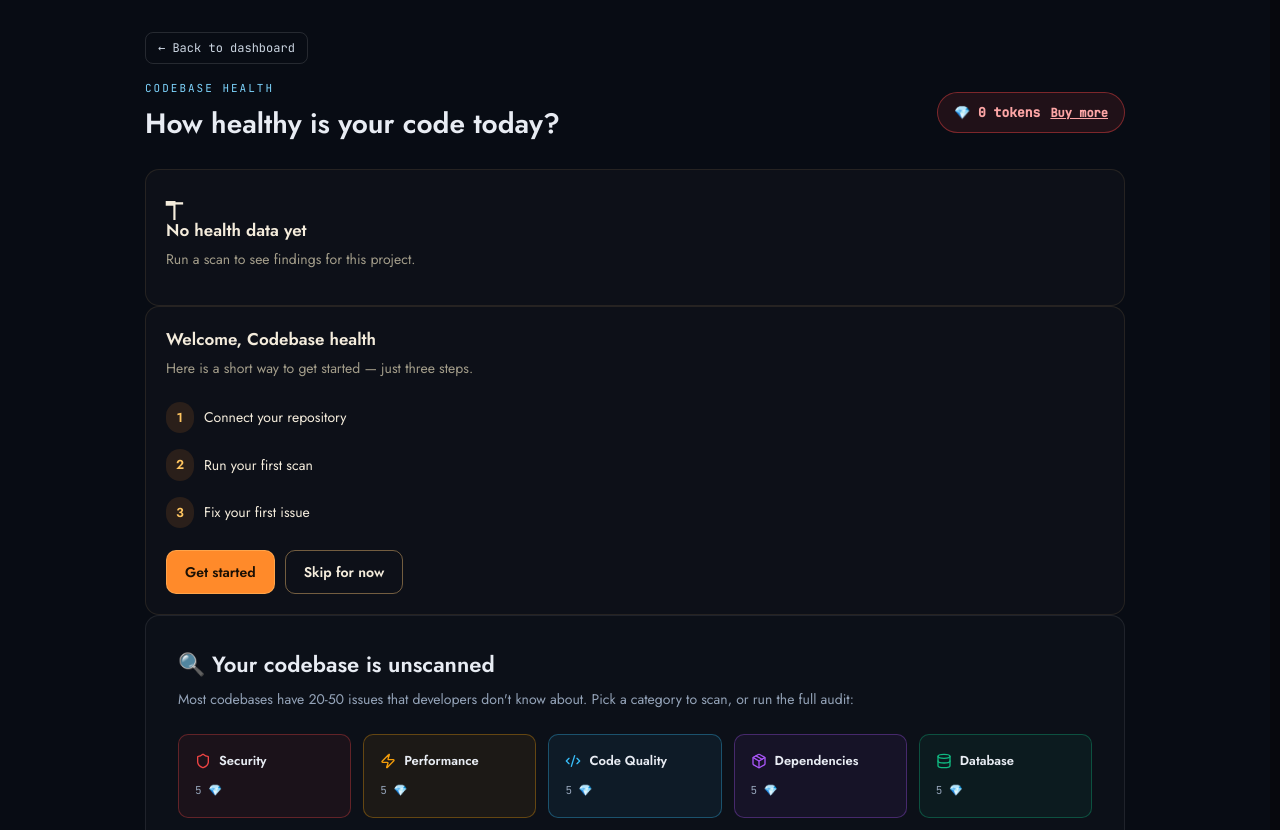
Test: UI-fix C4 · project-less scan attempt › clicking a category with no connected project shows 'Connect a repo first', not a silent error string
This screenshot has width=1280, height=830.
Click the button with test id "scan-security": {"x": 265, "y": 776} [178,734,351,818]
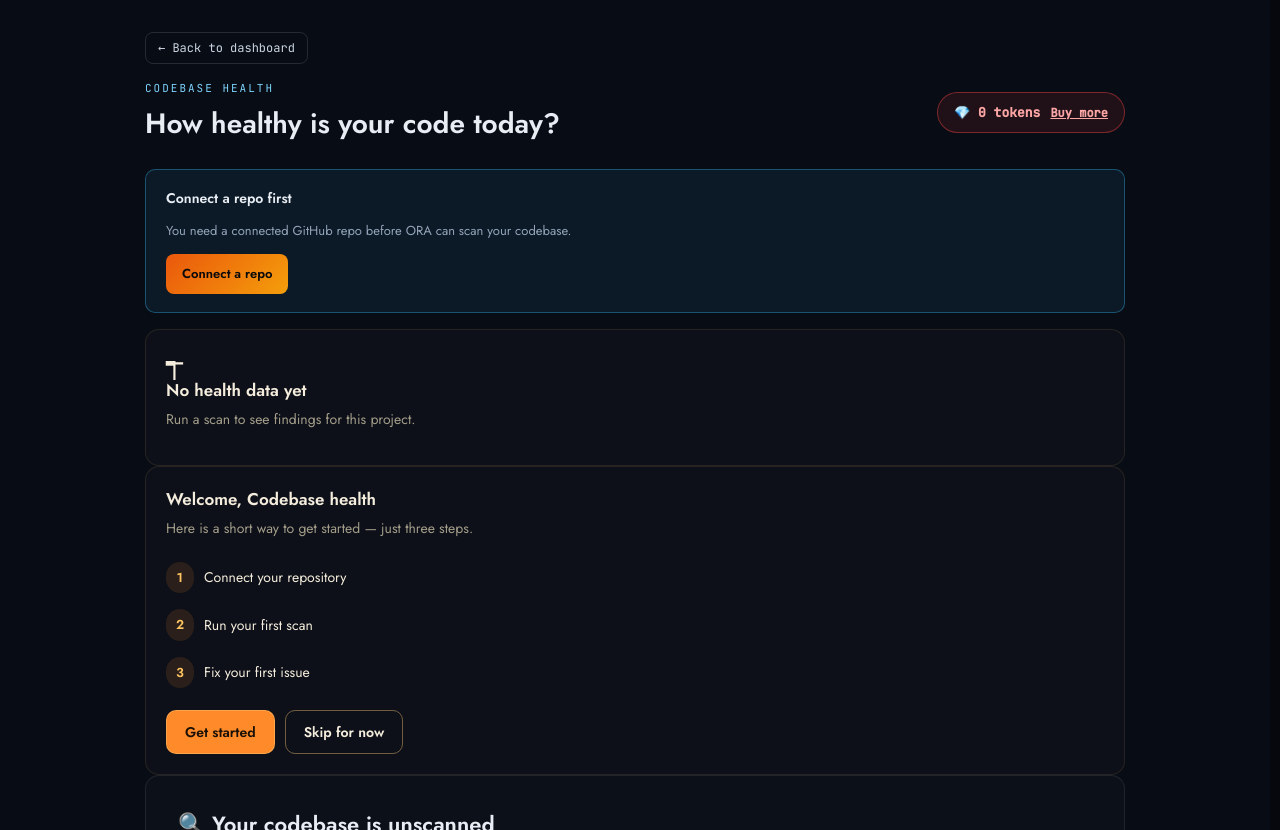
Expected: the element with test id "health-connect-first" shows "Connect a repo first", [166,188,292,208]
